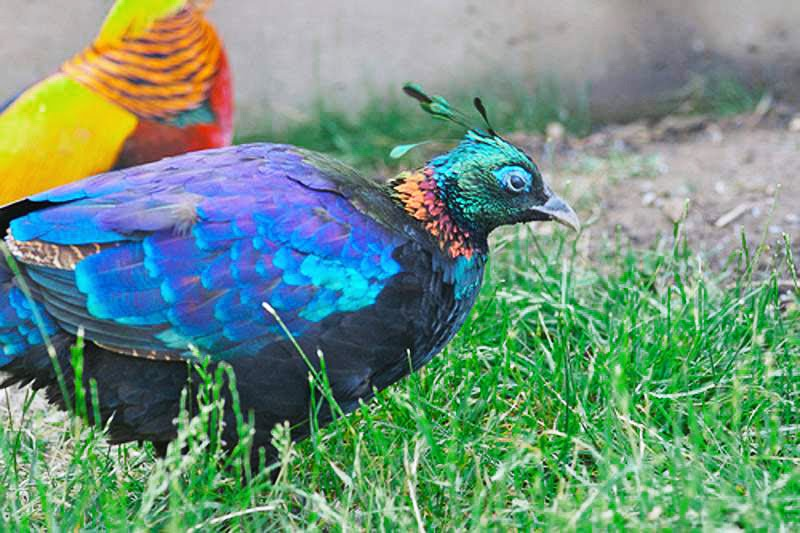bird: (1, 82, 600, 533)
